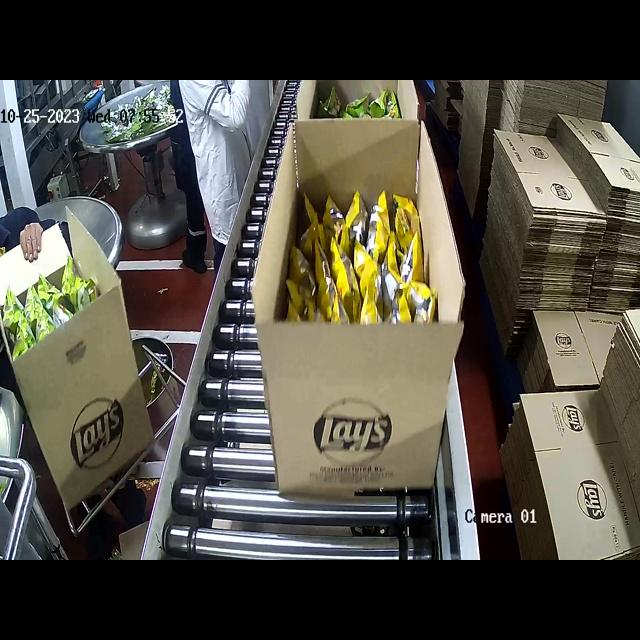salted: (300, 182, 443, 340)
yogurt: (316, 89, 407, 119)
